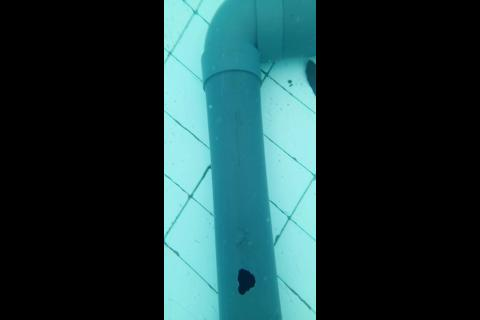kebocoran: (236, 267, 255, 296)
